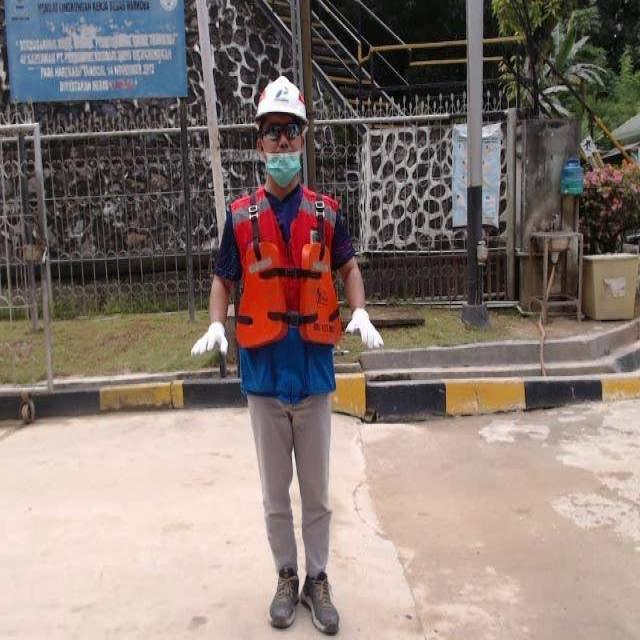Vest: (236, 240, 346, 355)
